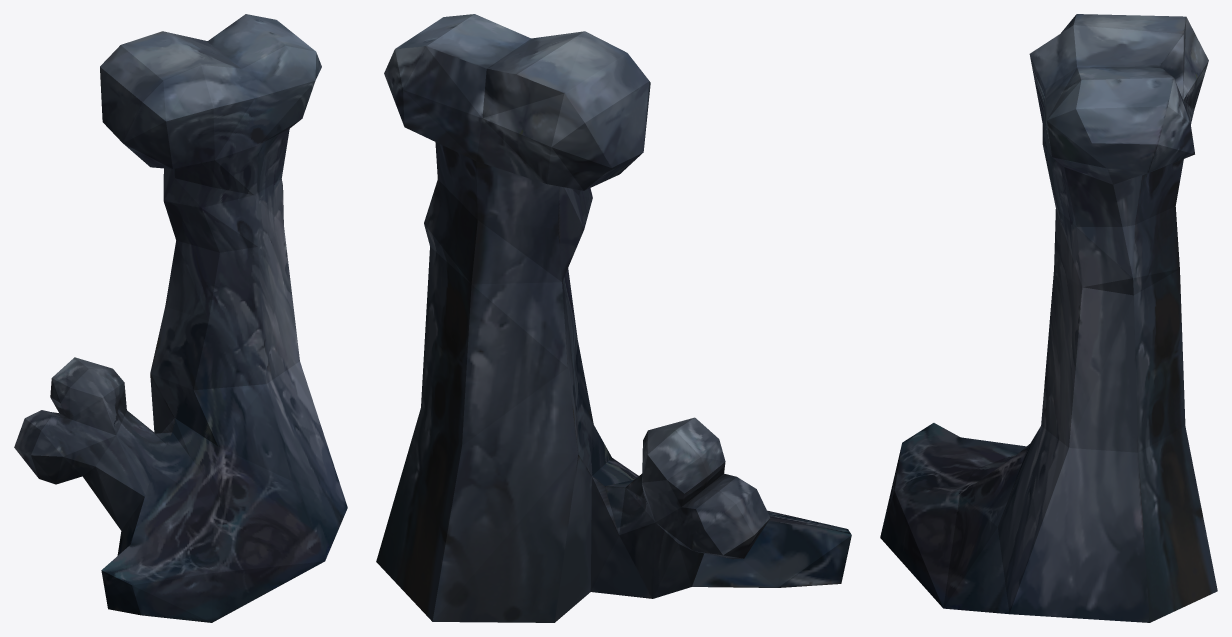
The model's file is fb_csd_zj_14_b.FBX.
The picture shows the model from 3 angles, left to right: view 1: azimuth 30°, elevation 25°; view 2: azimuth 150°, elevation 25°; view 3: azimuth 270°, elevation 25°; orthographic projection. The views are drawn at different scales.
Visible parts, largest first — view 1: Object001; view 2: Object001; view 3: Object001.
Part boxes in pixels (x1,y1,x2,y2): Object001: (14,14,347,622); Object001: (376,14,851,622); Object001: (880,14,1217,622).
Bounding box in the file's own units: 262 × 395 × 218.
1 material, 1 textured.
